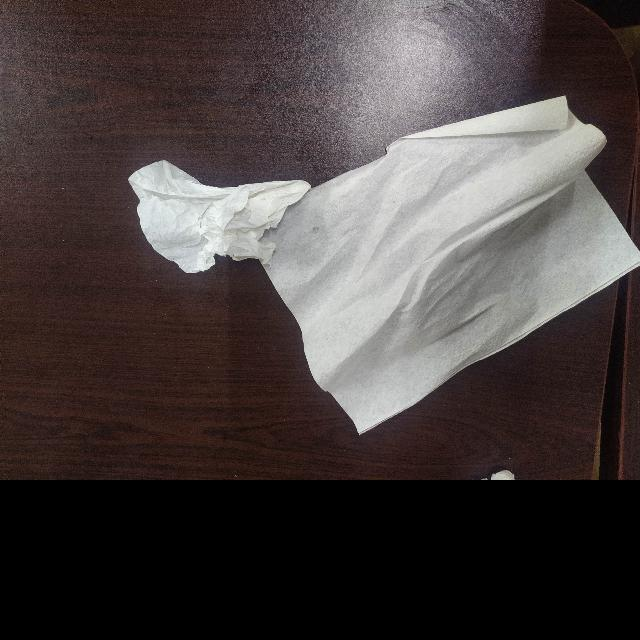kitchen paper: (247, 91, 640, 445), (121, 154, 321, 285)
